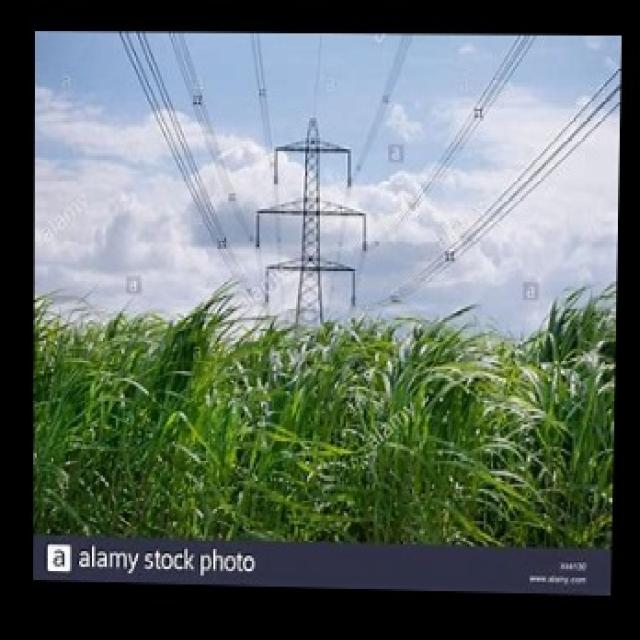utility poles: (260, 97, 366, 539)
